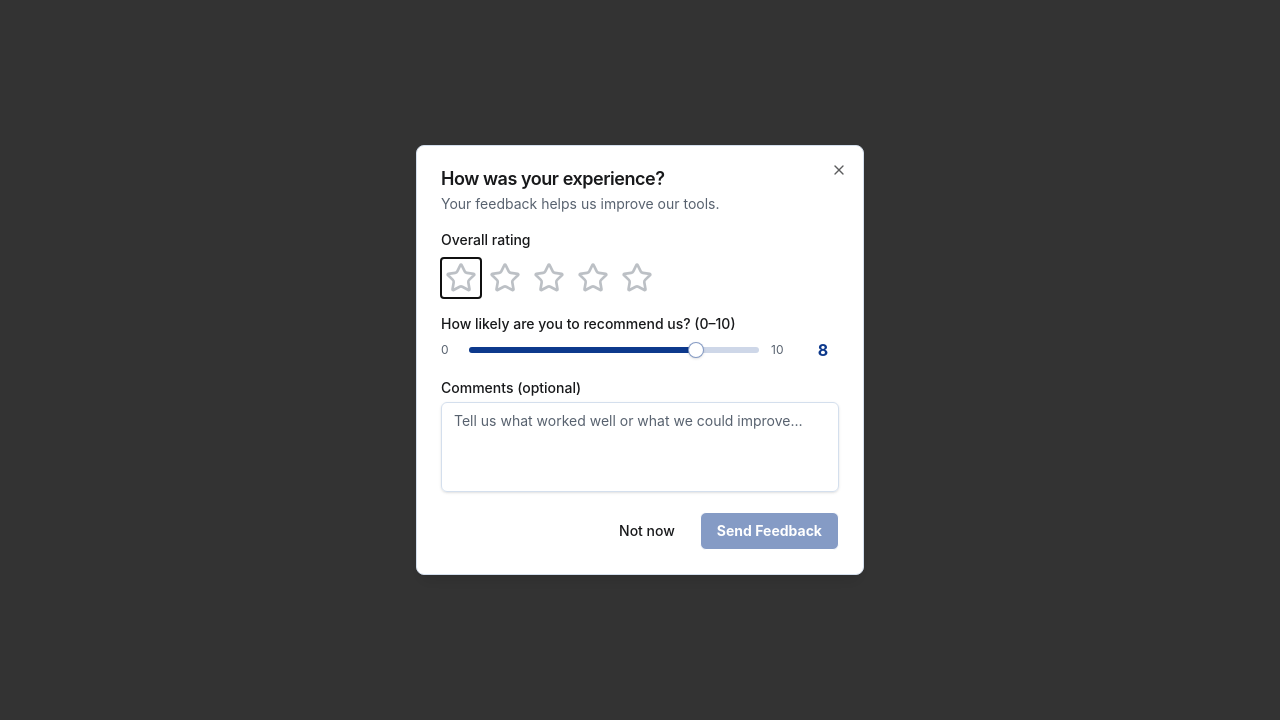
FeedbackModal failed submission › shows an error and stays open when the server rejects (500)
The width and height of the screenshot is (1280, 720).
Click the button with test id "star-4": (593,278) [573,258,613,298]
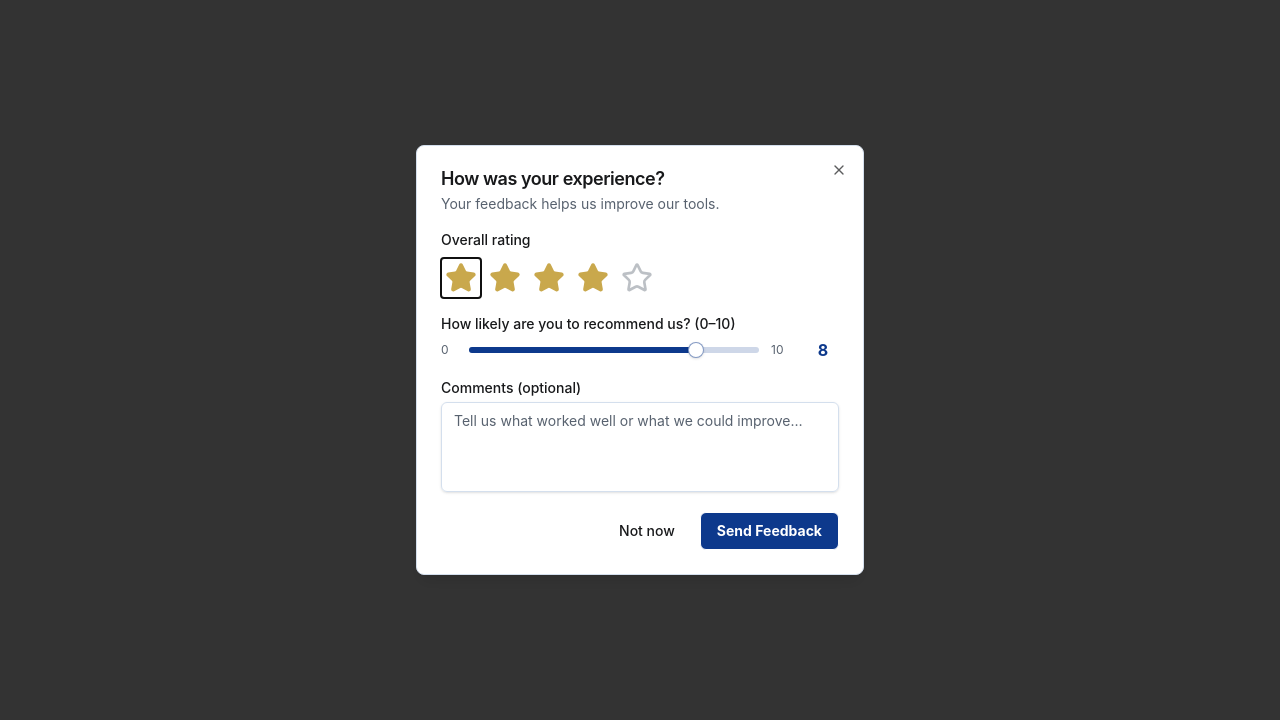
Click the button with test id "button-feedback-submit": (769,531) [700,512,839,550]
Wait 2000 ms
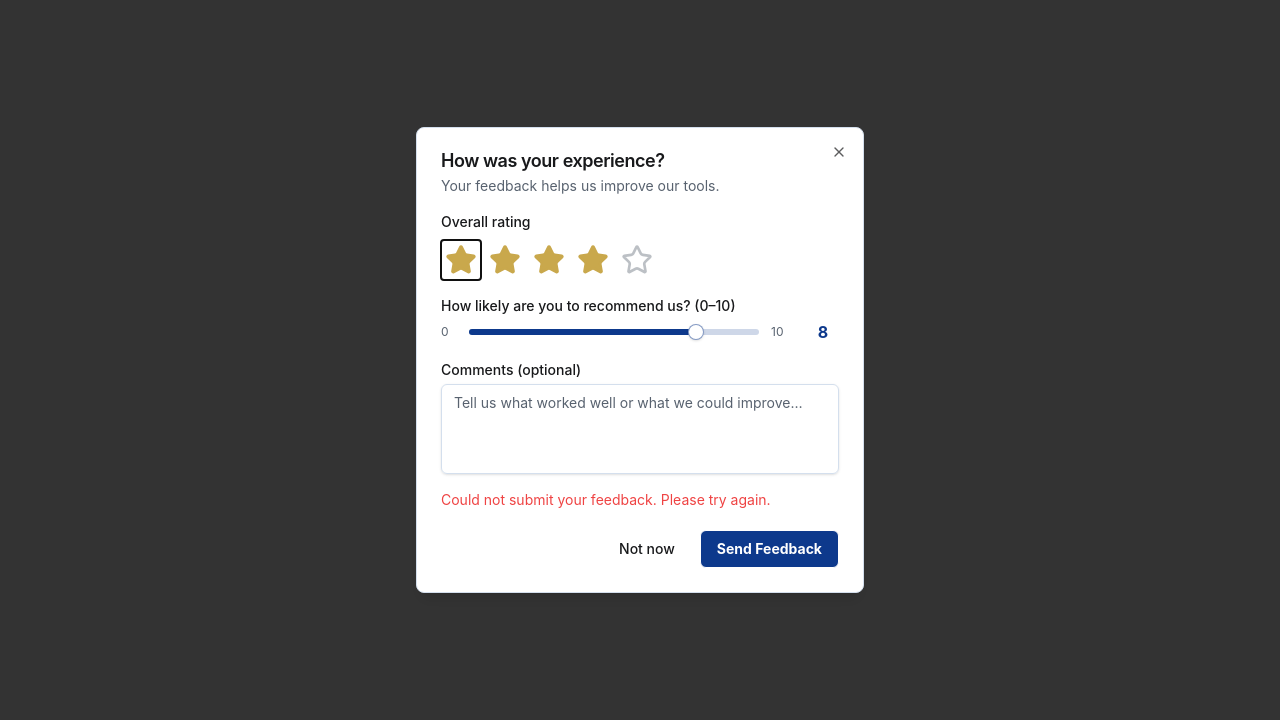
Expected: the button with test id "button-feedback-submit" is enabled, [700,530,839,568]
Expected: the text "Could not submit your feedback. Please try again." is shown, [441,491,771,508]
